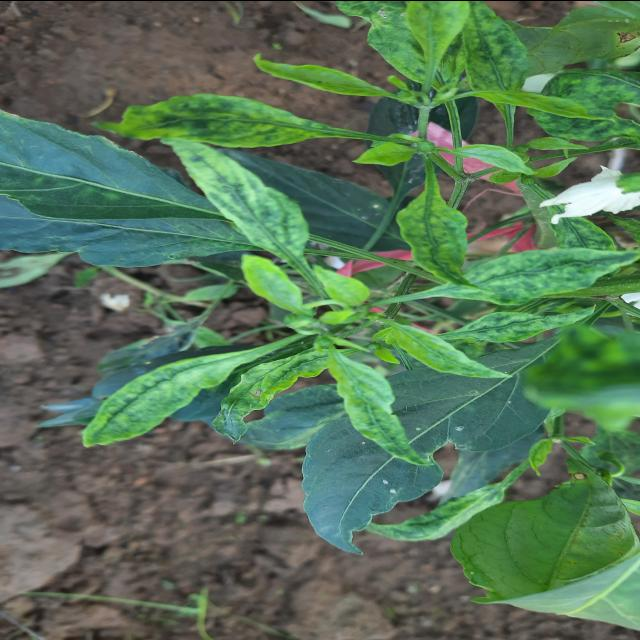thrips: (202, 338, 327, 446), (324, 346, 420, 478), (386, 314, 500, 390)
